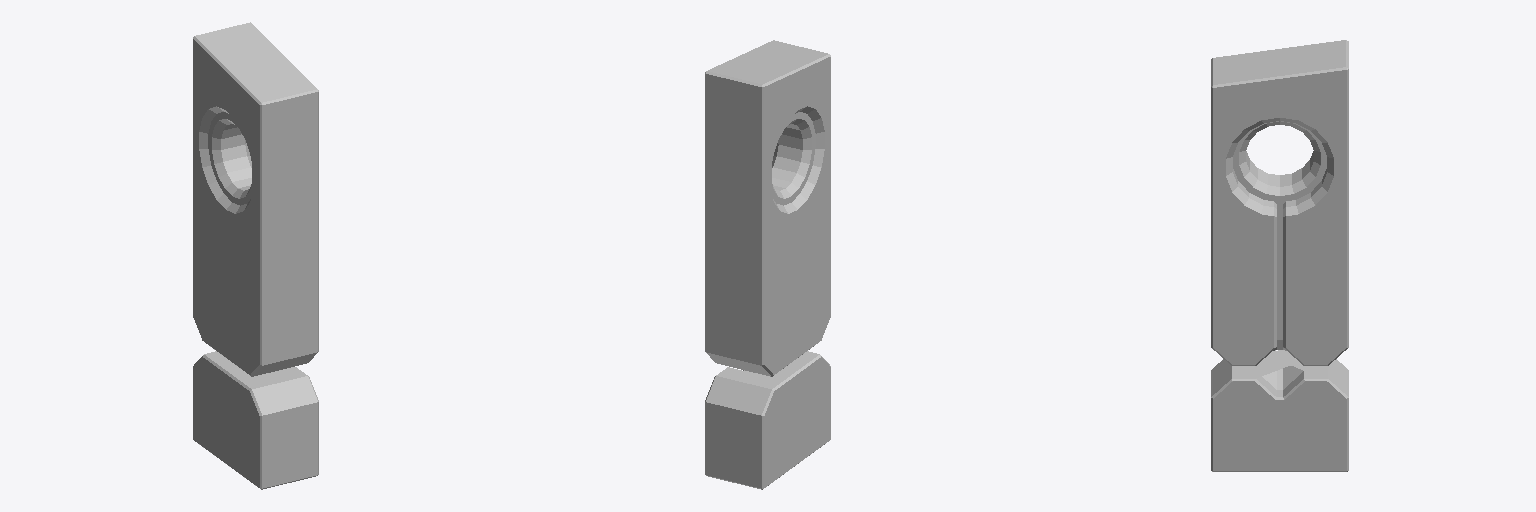
The model's file is Tower1SKP.obj.
3 renders of one model, left to right at view 1: azimuth 30°, elevation 25°; view 2: azimuth 150°, elevation 25°; view 3: azimuth 270°, elevation 25°, orthographic.
Visible parts, largest first — view 1: Mesh1 Default1 skpB97A1 Model, Mesh2 Default1 skpB97A1 Model; view 2: Mesh1 Default1 skpB97A1 Model, Mesh2 Default1 skpB97A1 Model; view 3: Mesh1 Default1 skpB97A1 Model, Mesh2 Default1 skpB97A1 Model.
Part boxes in pixels (left/top/right/bottom): Mesh1 Default1 skpB97A1 Model: left=193, top=22, right=318, bottom=376; Mesh2 Default1 skpB97A1 Model: left=193, top=351, right=318, bottom=489; Mesh1 Default1 skpB97A1 Model: left=705, top=40, right=830, bottom=376; Mesh2 Default1 skpB97A1 Model: left=705, top=351, right=830, bottom=489; Mesh1 Default1 skpB97A1 Model: left=1211, top=40, right=1348, bottom=365; Mesh2 Default1 skpB97A1 Model: left=1211, top=351, right=1348, bottom=471.
Size of the model in its own units: 0.254 by 1.65 by 0.508.